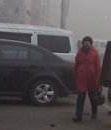person: (73, 35, 104, 121)
